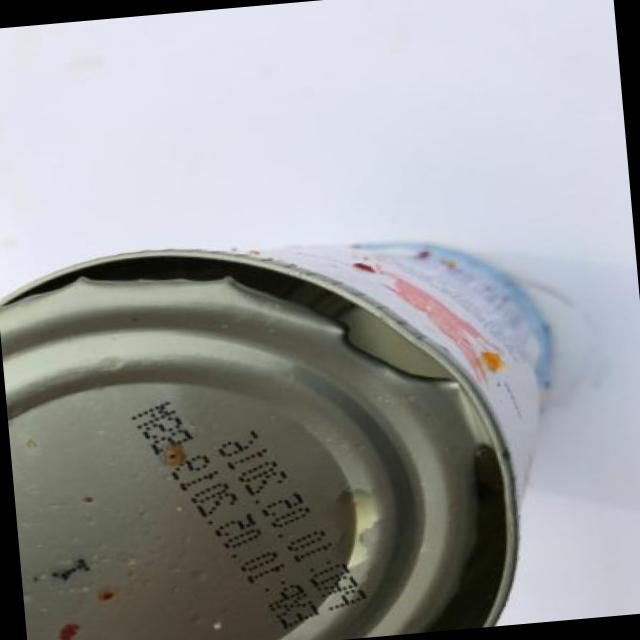metal: (0, 279, 515, 639)
